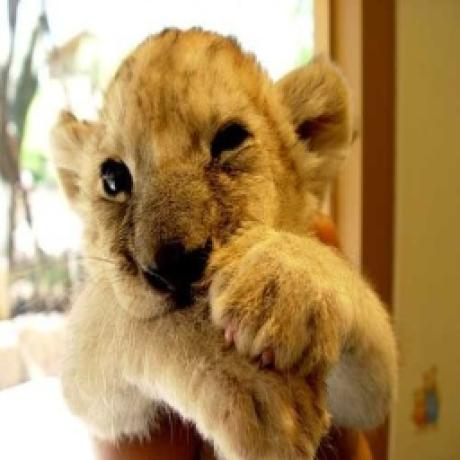Lion: (47, 23, 399, 460)
